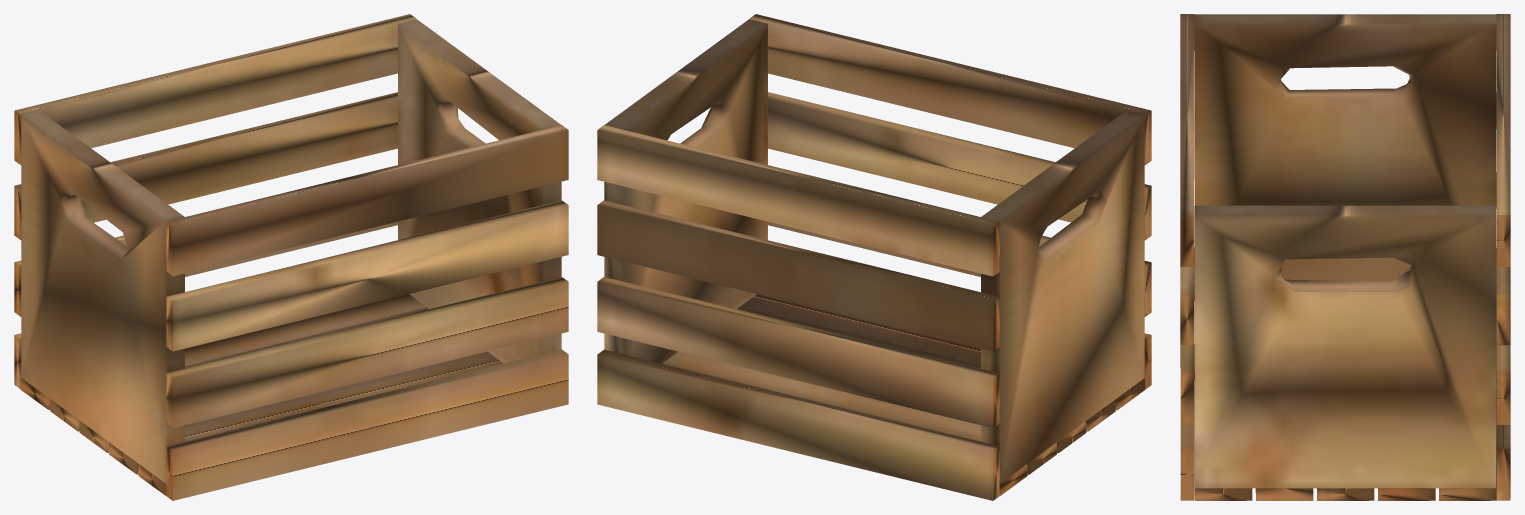
The model's file is wooden-crate.lod1.glb.
The picture shows the model from 3 angles, left to right: view 1: azimuth 30°, elevation 25°; view 2: azimuth 150°, elevation 25°; view 3: azimuth 270°, elevation 25°; orthographic projection. The views are drawn at different scales.
Visible parts, largest first — view 1: Object_4; view 2: Object_4; view 3: Object_4.
Part boxes in pixels (x1,y1,x2,y2): Object_4: [14, 14, 568, 500]; Object_4: [597, 14, 1151, 500]; Object_4: [1180, 14, 1510, 500].
Bounding box in the file's own units: 0.8992 × 0.5965 × 0.6244.
Materials: 1 (1 with a texture image).
